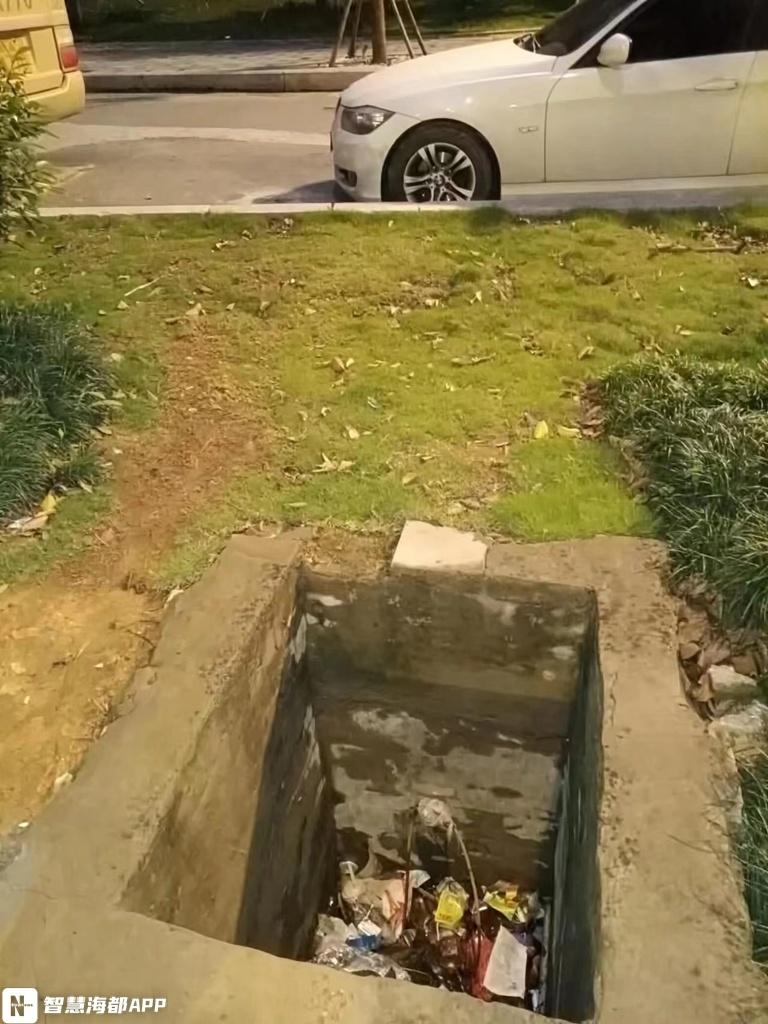wellcover: (117, 545, 686, 1024)
